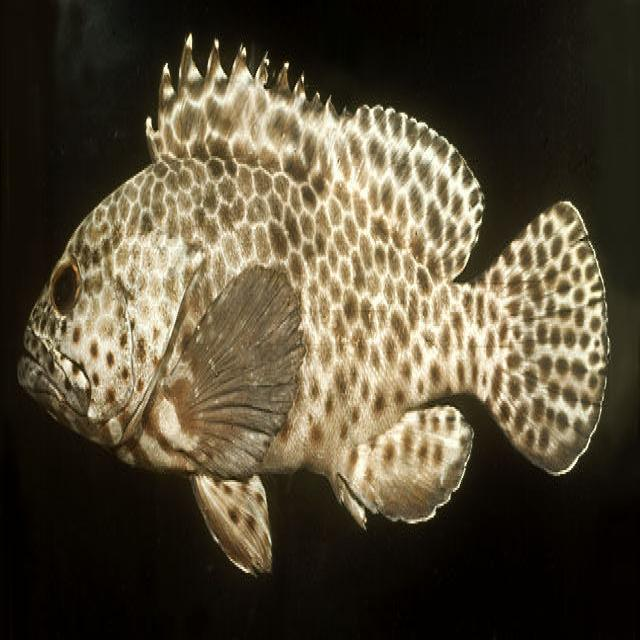ikan: (14, 24, 616, 597)
